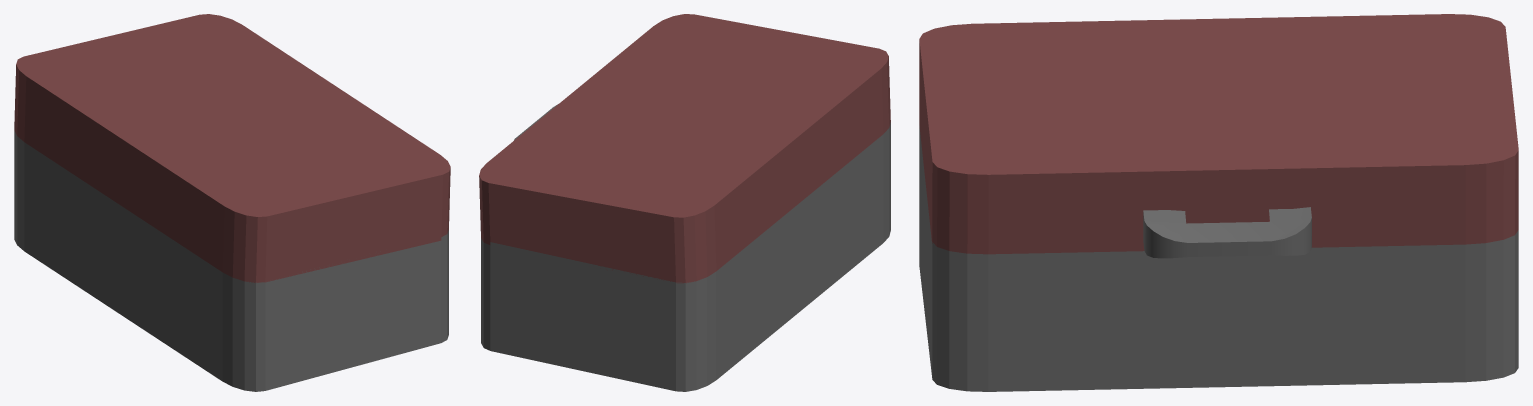
Rendered from boxtool.fbx.
3 renders of one model, left to right at view 1: azimuth 30°, elevation 25°; view 2: azimuth 150°, elevation 25°; view 3: azimuth 270°, elevation 25°, orthographic. The views are drawn at different scales.
Visible parts, largest first — view 1: Box_toolsShape; view 2: Box_toolsShape; view 3: Box_toolsShape.
Boxes of the visible parts, x1,y1,x2,y2 form: Box_toolsShape: (14,14,450,391); Box_toolsShape: (479,14,890,391); Box_toolsShape: (919,14,1518,391).
Size of the model in its own units: 24.22 by 15 by 35.75.
